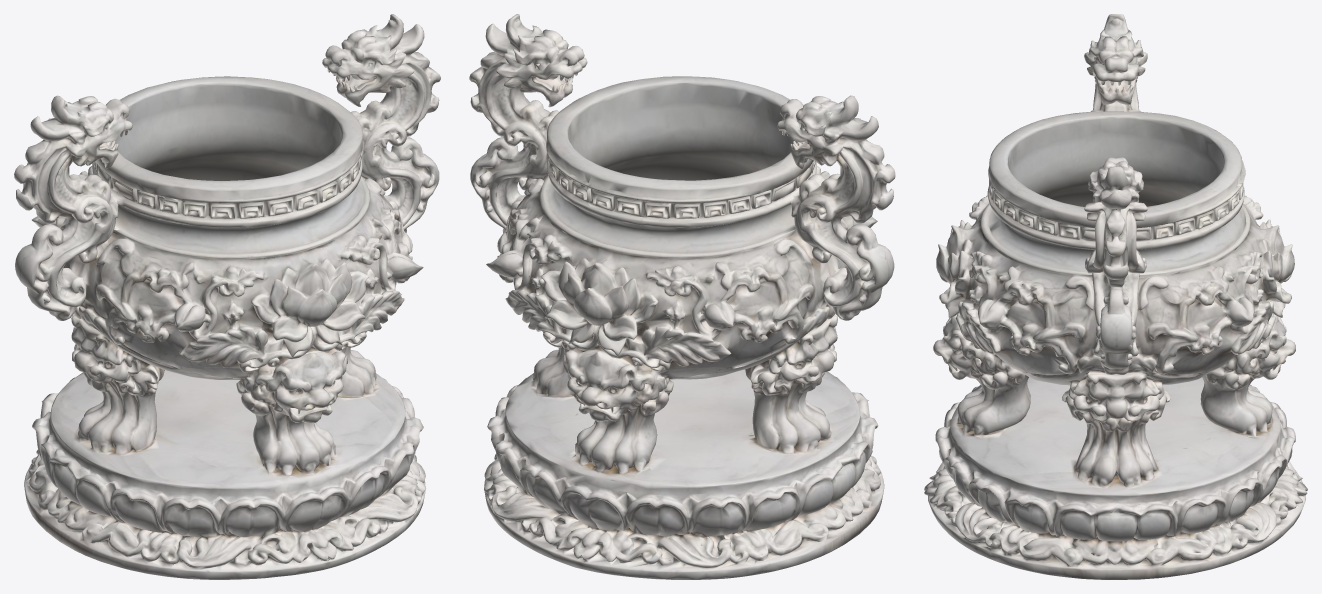
Rendered from high-welded.glb.
3 views of the same model, side by side, from view 1: azimuth 30°, elevation 25°; view 2: azimuth 150°, elevation 25°; view 3: azimuth 270°, elevation 25° (orthographic). The views are drawn at different scales.
Visible parts, largest first — view 1: model; view 2: model; view 3: model.
Boxes of the visible parts, x1,y1,x2,y2 form: model: (14, 14, 440, 579); model: (469, 14, 895, 579); model: (924, 14, 1307, 579).
Bounding box in the file's own units: 1.59 × 1.6 × 1.34.
1 material, 1 textured.
